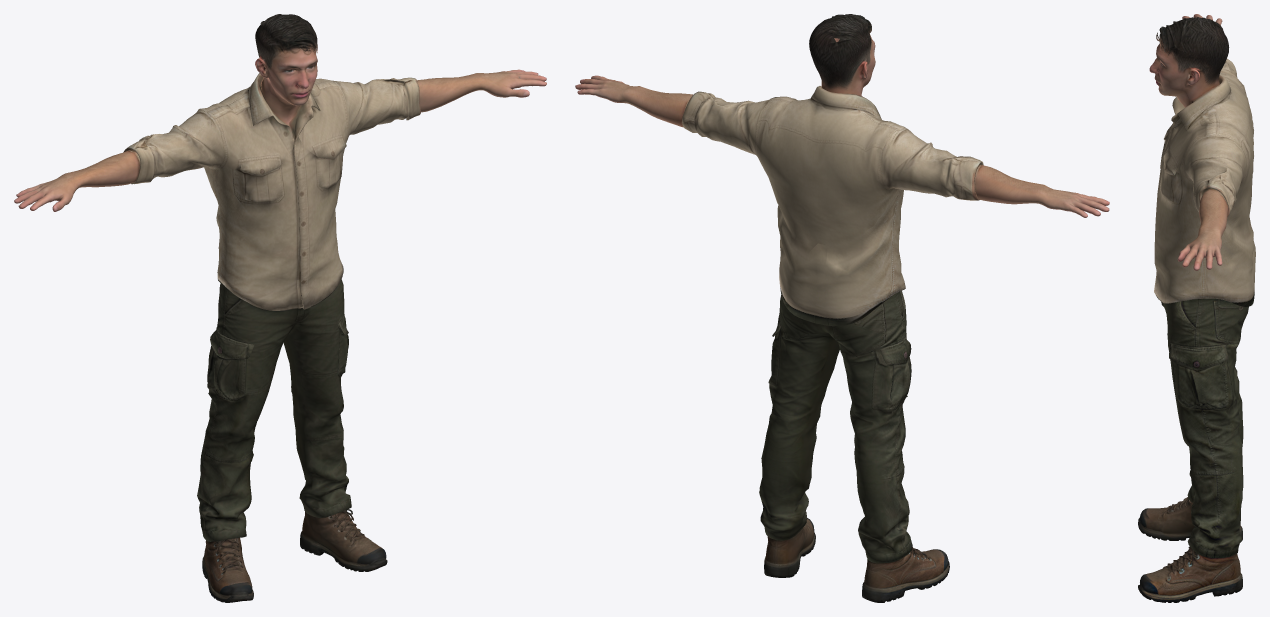
The model's file is CHR_Axel_Base.fbx.
3 renders of one model, left to right at view 1: azimuth 30°, elevation 25°; view 2: azimuth 150°, elevation 25°; view 3: azimuth 270°, elevation 25°, orthographic.
Parts seen in each view (by area): view 1: CHR_Axel_Base; view 2: CHR_Axel_Base; view 3: CHR_Axel_Base.
Boxes of the visible parts, x1,y1,x2,y2 form: CHR_Axel_Base: [14, 14, 546, 602]; CHR_Axel_Base: [575, 14, 1109, 602]; CHR_Axel_Base: [1138, 14, 1255, 602].
Size of the model in its own units: 99.95 by 99.95 by 19.58.
Materials: 1 (1 with a texture image).
